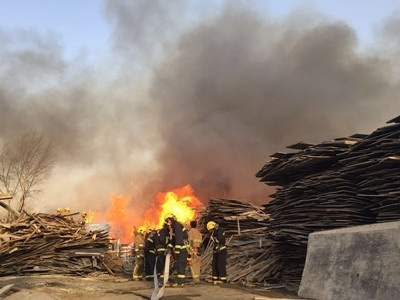fire: (92, 184, 199, 236)
